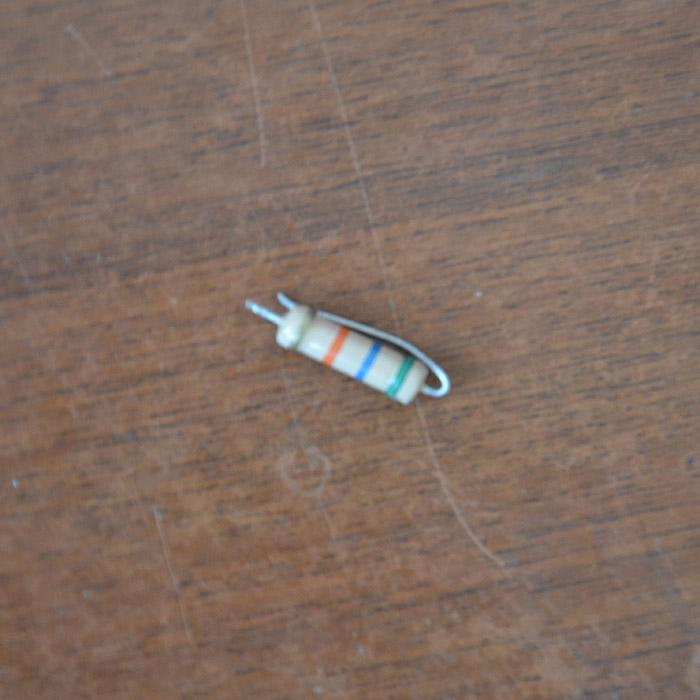resistor: (265, 298, 437, 407)
